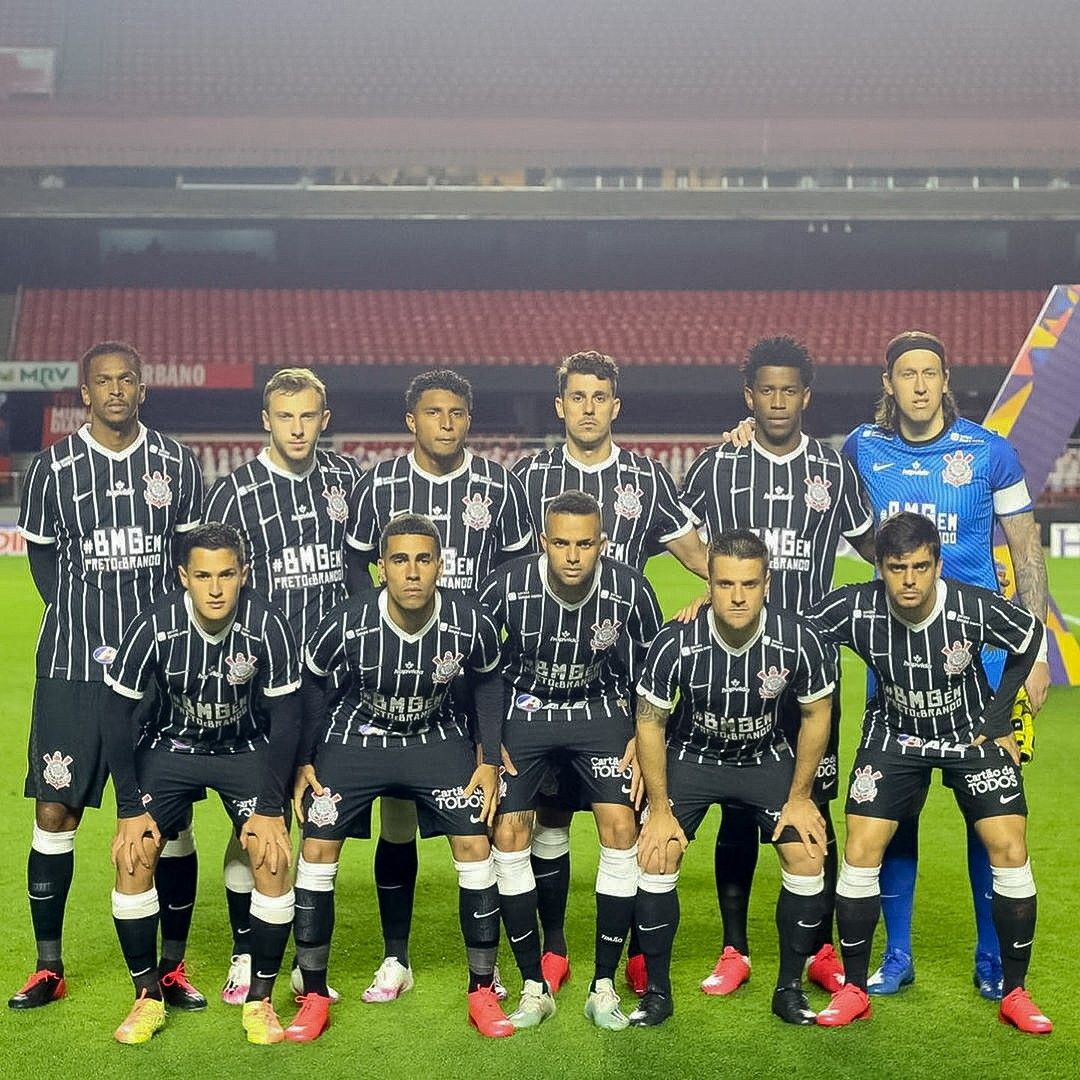without_mask: (74, 341, 148, 430), (259, 373, 332, 461), (401, 377, 474, 465), (551, 363, 624, 451), (741, 358, 814, 446), (880, 342, 953, 430), (872, 526, 945, 614), (701, 547, 774, 635), (534, 504, 607, 592), (372, 530, 445, 618), (176, 540, 249, 628)
